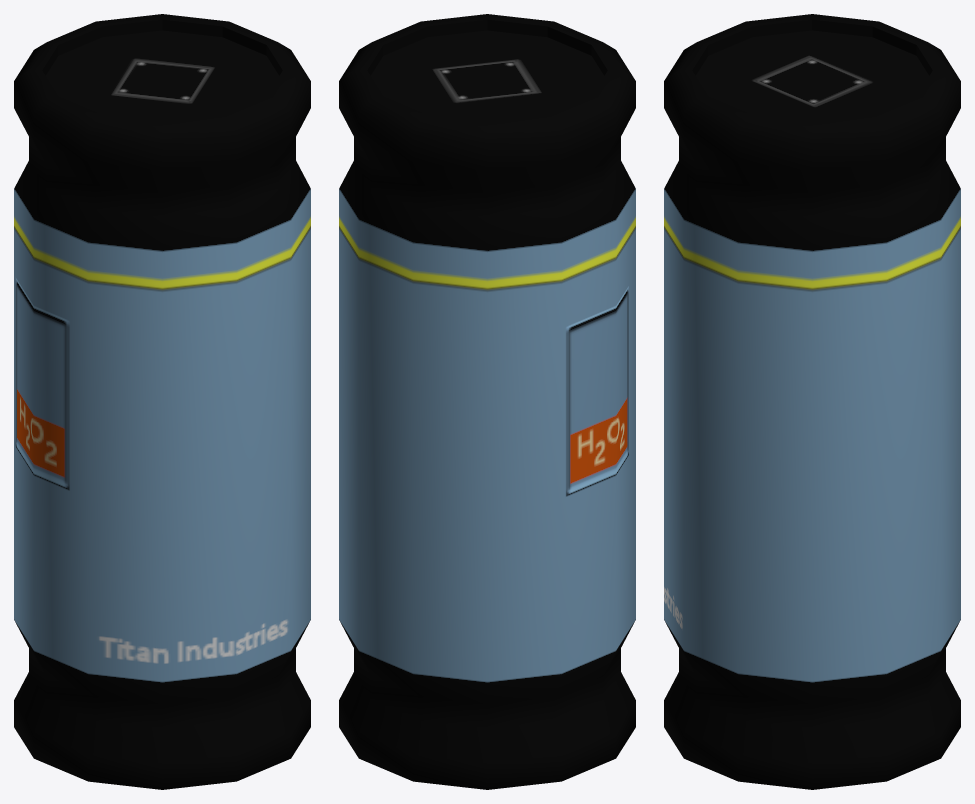
The model's file is SSCCanister1.fbx.
3 views of the same model, side by side, from view 1: azimuth 30°, elevation 25°; view 2: azimuth 150°, elevation 25°; view 3: azimuth 270°, elevation 25° (orthographic).
Visible parts, largest first — view 1: SSCCanister1; view 2: SSCCanister1; view 3: SSCCanister1.
Boxes of the visible parts, bbox=[...] form: SSCCanister1: bbox=[14, 14, 310, 789]; SSCCanister1: bbox=[339, 14, 635, 789]; SSCCanister1: bbox=[664, 14, 960, 789].
Size of the model in its own units: 25 by 61 by 25.
